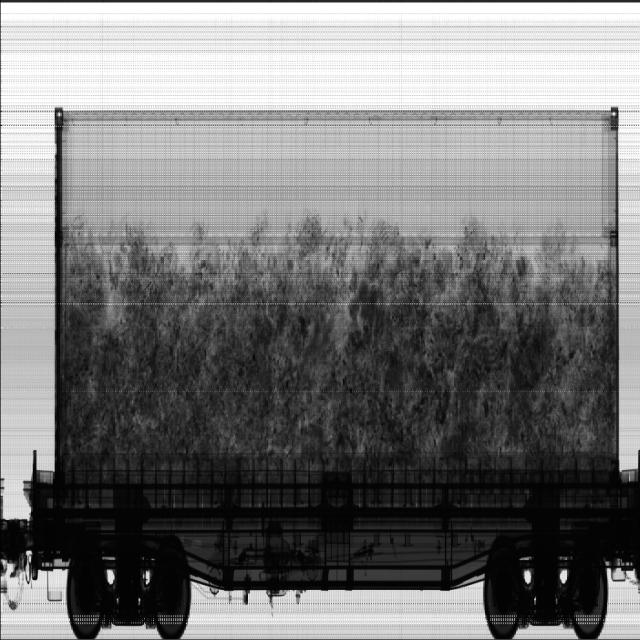textiles: (64, 206, 610, 465)
